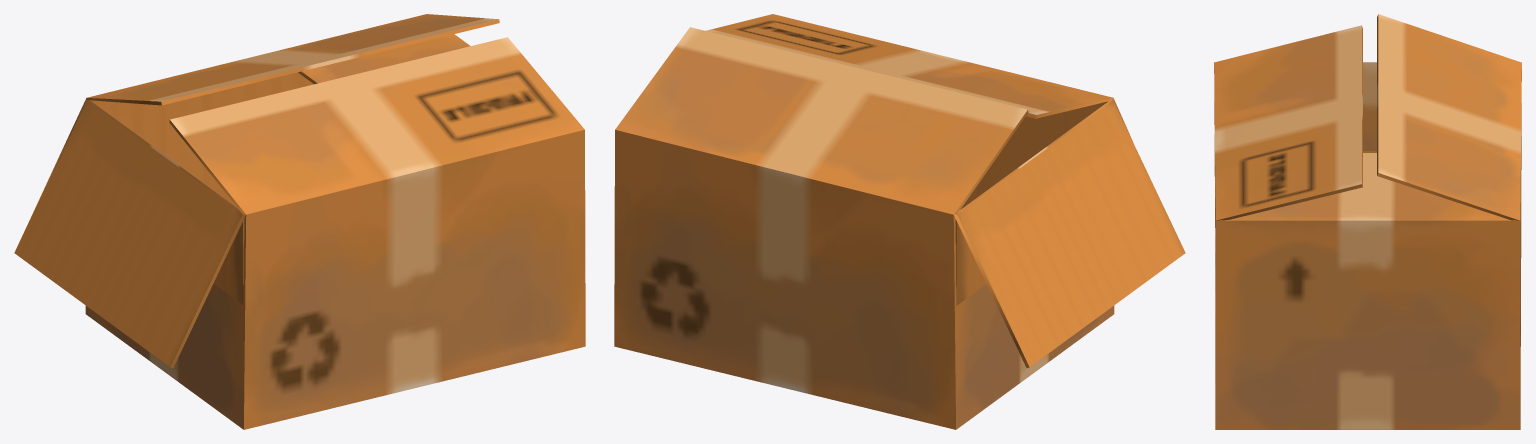
Rendered from TNP0110018.FBX.
3 renders of one model, left to right at view 1: azimuth 30°, elevation 25°; view 2: azimuth 150°, elevation 25°; view 3: azimuth 270°, elevation 25°, orthographic. The views are drawn at different scales.
Visible parts, largest first — view 1: smTNP0110018; view 2: smTNP0110018; view 3: smTNP0110018.
Boxes of the visible parts, <box> form: smTNP0110018: <box>14,14,585,429</box>; smTNP0110018: <box>614,14,1185,429</box>; smTNP0110018: <box>1214,14,1521,429</box>.
Size of the model in its own units: 67.63 by 41.49 by 45.17.
Materials: 1 (1 with a texture image).
